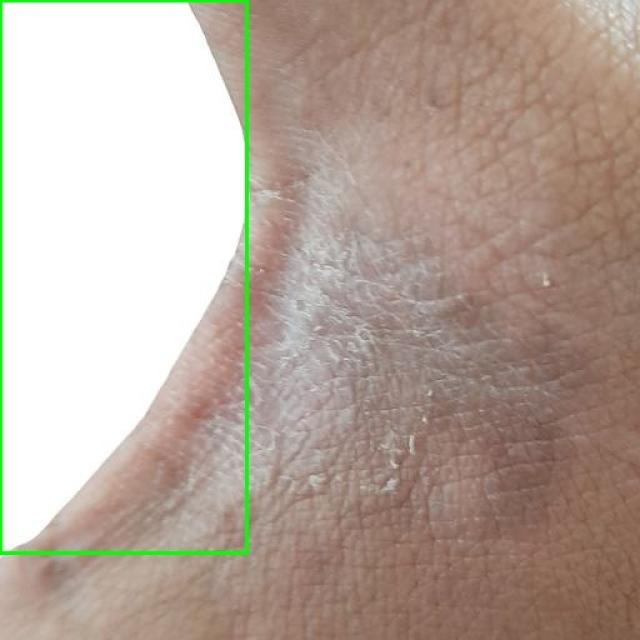Scabies: (0, 0, 246, 552)
